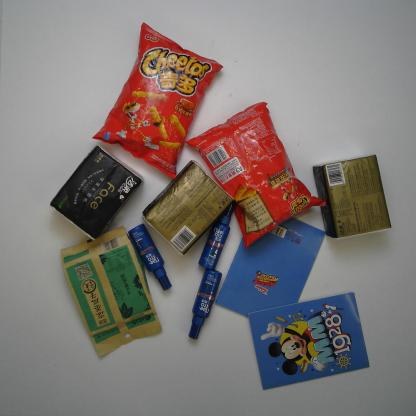Dried Food: (58, 224, 164, 360)
Personal Hygiene: (127, 223, 174, 292), (198, 203, 236, 271), (188, 268, 223, 340)
Puffed Food: (180, 98, 332, 251), (90, 19, 225, 180)
Stationery: (211, 211, 330, 324), (246, 290, 370, 391)
Tissue: (48, 142, 146, 248), (141, 158, 237, 257), (312, 154, 392, 239)
